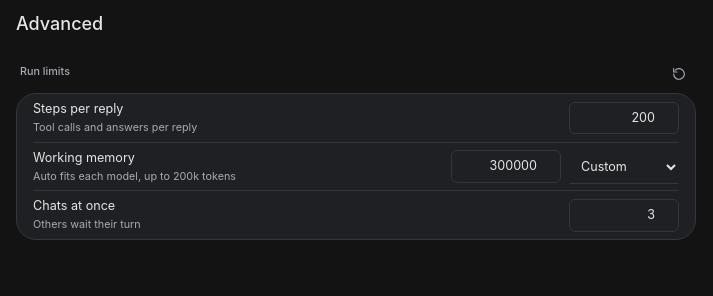
it: Settings › Advanced › Working memory › names the field in a rejected cap's error
Replace the text in the number field named "Working memory tokens" with "10" at {"x": 506, "y": 167}, box [451, 150, 561, 183]
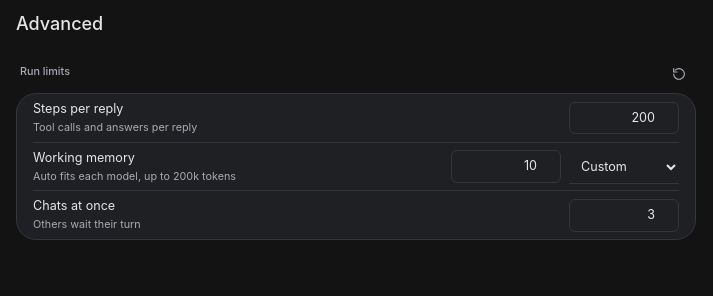
Leave the number field named "Working memory tokens", box [451, 150, 561, 183]
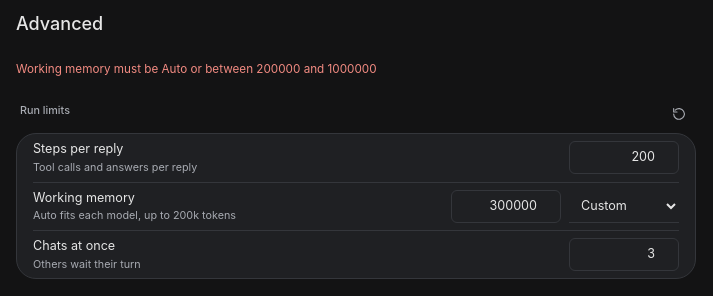
Result: the message reads "Working memory must be Auto or between 200000 and 1000000" at [16, 62, 376, 76]
